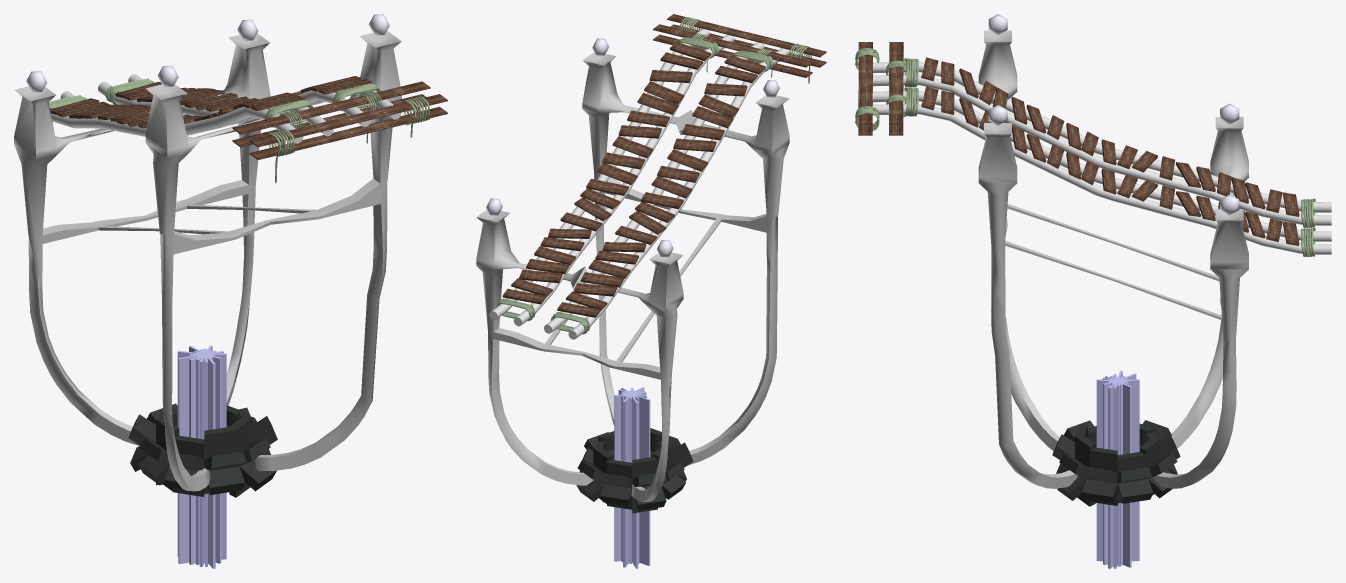
Rendered from 2_bridge_down.fbx.
3 renders of one model, left to right at view 1: azimuth 30°, elevation 25°; view 2: azimuth 150°, elevation 25°; view 3: azimuth 270°, elevation 25°, orthographic. The views are drawn at different scales.
Parts seen in each view (by area): view 1: 2_straightup_base, gravityring, 2_straightup_LaL, 2_straightup_LaR, 2_straightdown_verschlag02, 2_straightup_verschlag, 2_straightdown_verschlag02_ropes, 2_straightup_LaR_ropes, 2_straightup_LaL_ropes; view 2: 2_straightup_base, 2_straightup_LaR, 2_straightup_LaL, gravityring, 2_straightup_verschlag, 2_straightdown_verschlag02, 2_straightup_LaL_ropes, 2_straightup_LaR_ropes, 2_straightdown_verschlag02_ropes; view 3: 2_straightup_base, gravityring, 2_straightup_LaL, 2_straightup_LaR, 2_straightup_verschlag, 2_straightdown_verschlag02, 2_straightup_LaL_ropes, 2_straightup_LaR_ropes.
Boxes of the visible parts, box(x1,y1,x2,y2) form: 2_straightup_base: box(14, 14, 401, 491); gravityring: box(128, 345, 277, 568); 2_straightup_LaL: box(50, 91, 333, 143); 2_straightup_LaR: box(98, 74, 401, 126); 2_straightdown_verschlag02: box(249, 94, 447, 159); 2_straightup_verschlag: box(232, 81, 430, 147); 2_straightdown_verschlag02_ropes: box(267, 96, 429, 183); 2_straightup_LaR_ropes: box(105, 78, 381, 111); 2_straightup_LaL_ropes: box(48, 95, 313, 127); 2_straightup_base: box(476, 38, 789, 501); 2_straightup_LaR: box(489, 28, 734, 326); 2_straightup_LaL: box(544, 42, 789, 339); gravityring: box(576, 387, 693, 568); 2_straightup_verschlag: box(653, 24, 812, 77); 2_straightdown_verschlag02: box(667, 14, 826, 67); 2_straightup_LaL_ropes: box(550, 50, 773, 334); 2_straightup_LaR_ropes: box(496, 37, 719, 320); 2_straightdown_verschlag02_ropes: box(679, 17, 811, 83); 2_straightup_base: box(978, 14, 1248, 488); gravityring: box(1052, 370, 1180, 568); 2_straightup_LaL: box(873, 57, 1331, 225); 2_straightup_LaR: box(872, 86, 1331, 254); 2_straightup_verschlag: box(889, 42, 903, 135); 2_straightdown_verschlag02: box(858, 42, 872, 135); 2_straightup_LaL_ropes: box(904, 58, 1315, 227); 2_straightup_LaR_ropes: box(904, 87, 1315, 256).
Size of what is drawn, in the model's own units: 63.37 by 143 by 123.
7 materials, 1 textured.
